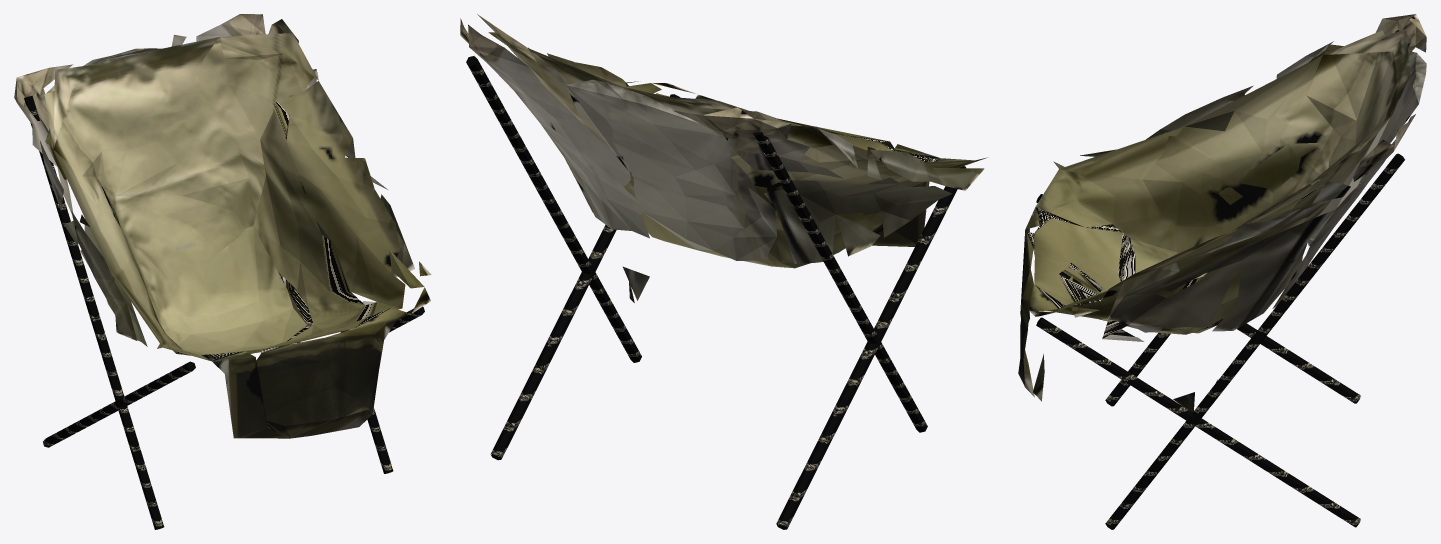
File: chairedit.fbx
The picture shows the model from 3 angles, left to right: view 1: azimuth 30°, elevation 25°; view 2: azimuth 150°, elevation 25°; view 3: azimuth 270°, elevation 25°; orthographic projection. The views are drawn at different scales.
Visible parts, largest first — view 1: Object; view 2: Object; view 3: Object.
Part boxes in pixels (box(x1,y1,x2,y2)): Object: box(14, 14, 431, 529); Object: box(460, 14, 987, 529); Object: box(1018, 14, 1426, 529).
Bounding box in the file's own units: 21.65 × 25.2 × 23.19.
Materials: 1 (1 with a texture image).
